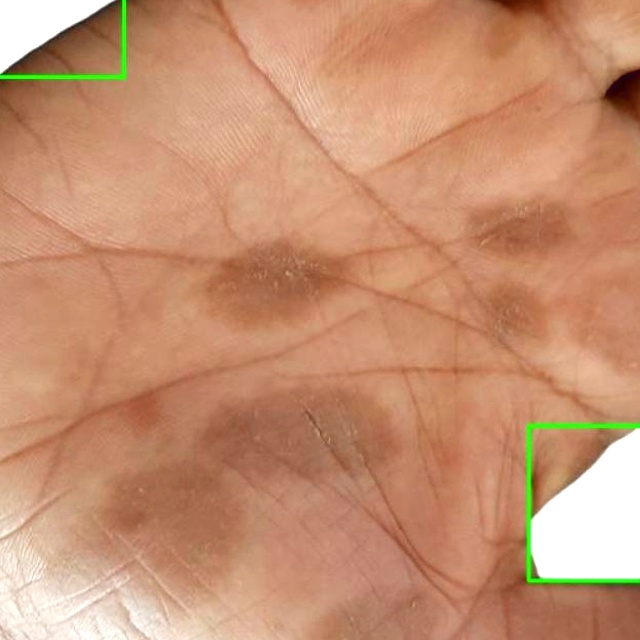Contact Dermatitis: (528, 426, 639, 581), (0, 0, 124, 77)
